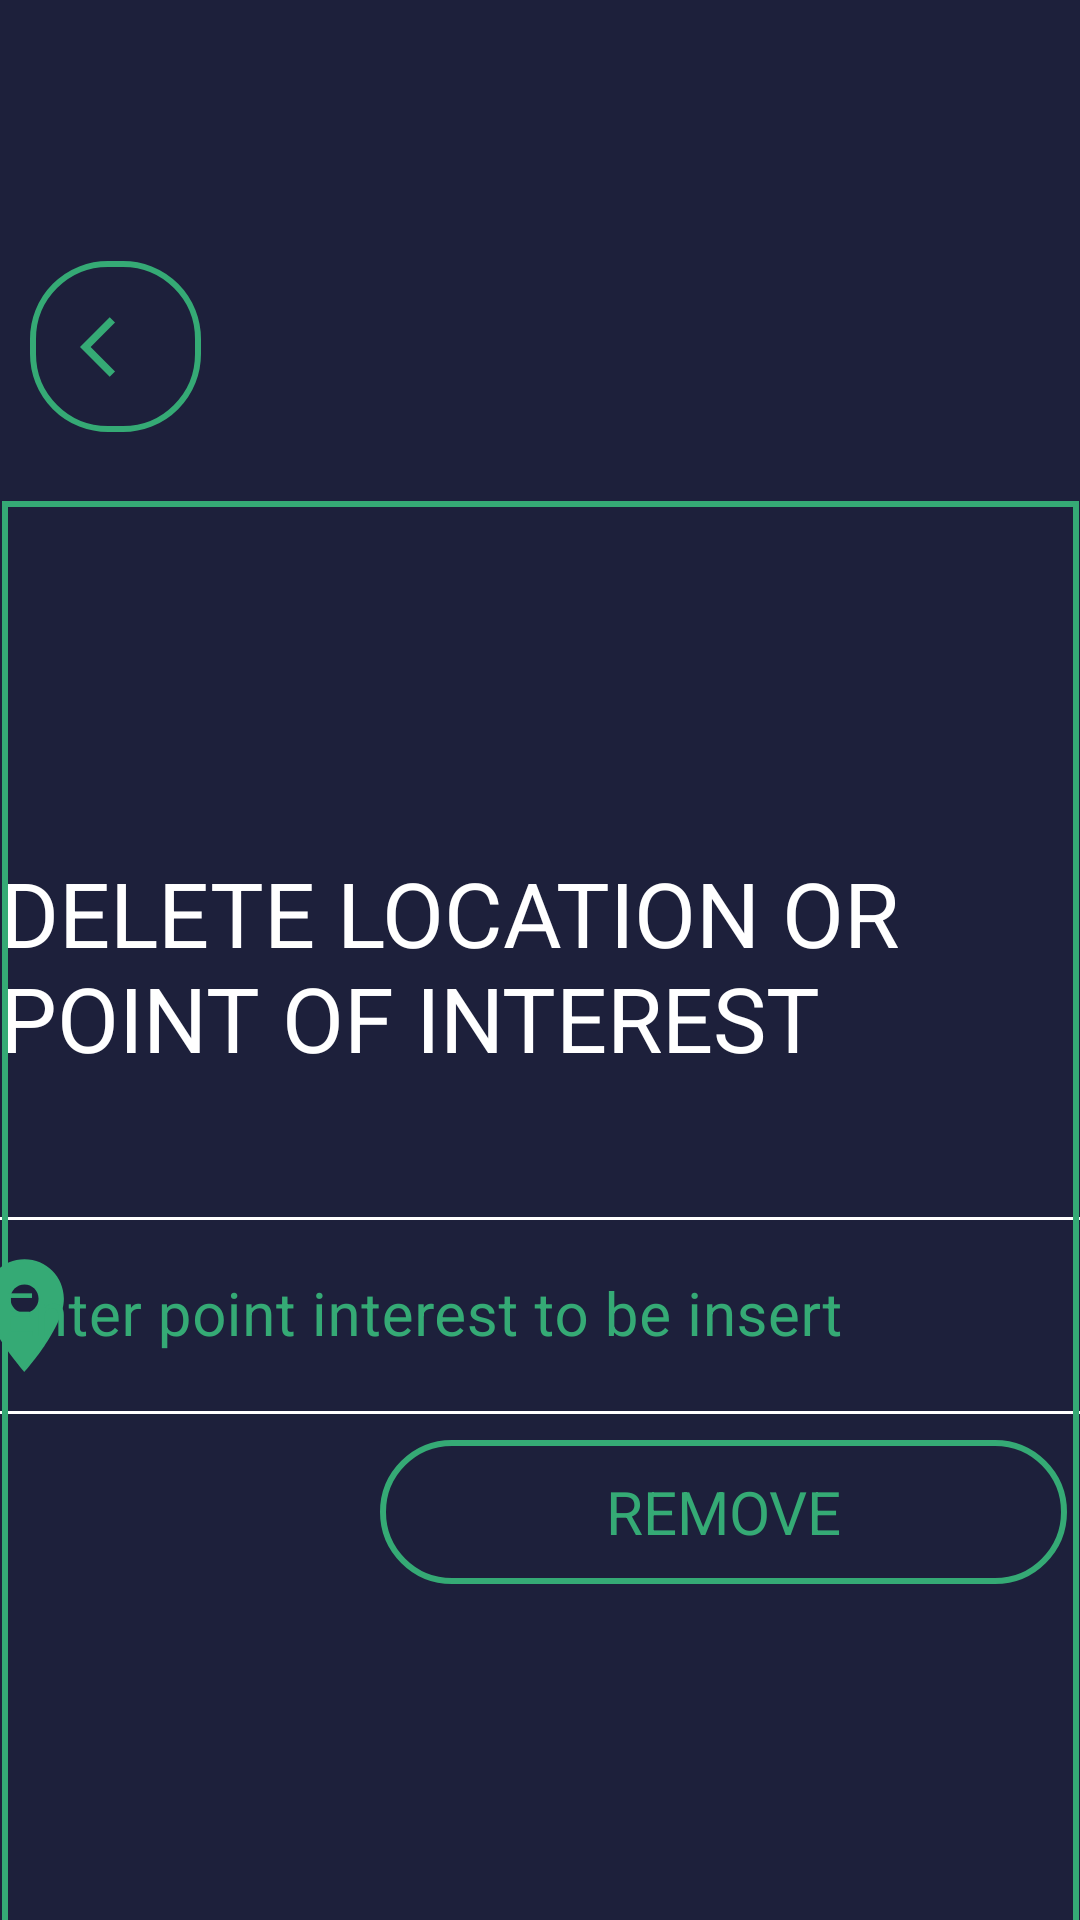

Icon bounding boxes for this 1080 × 1920 phone screenshot, format region(x1, y1, x2, y2):
back: region(30, 261, 201, 432)
